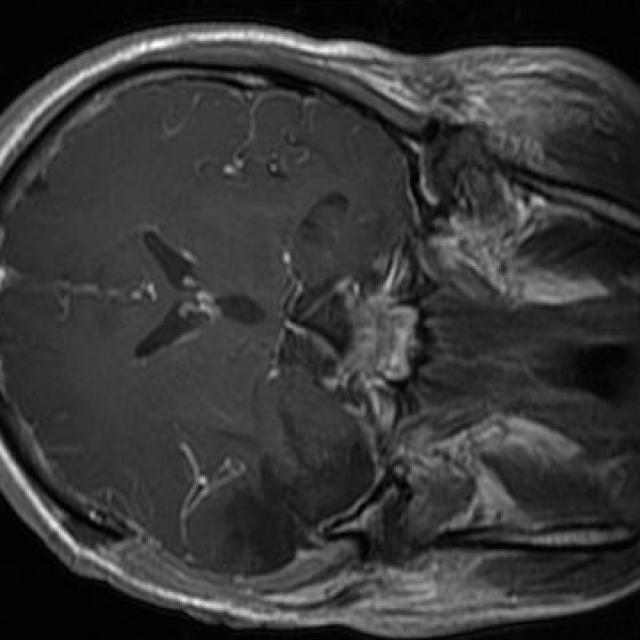glioma: (217, 430, 374, 576)
